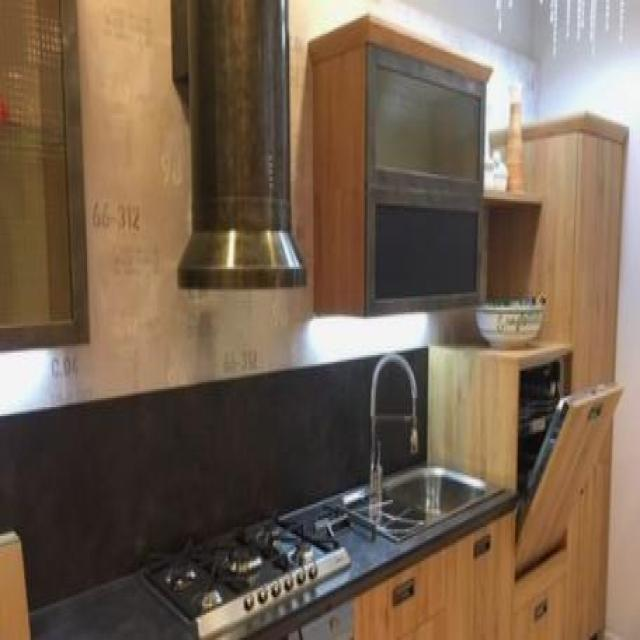dishwasher: (506, 344, 628, 590)
